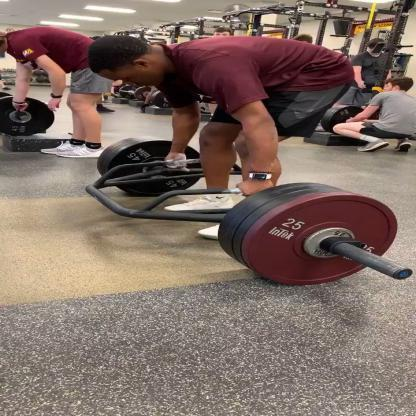barbell: (96, 136, 412, 286)
